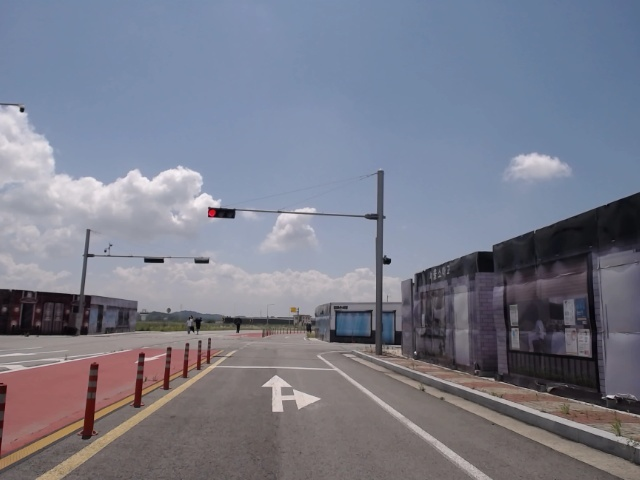red_3: (208, 208, 235, 219)
